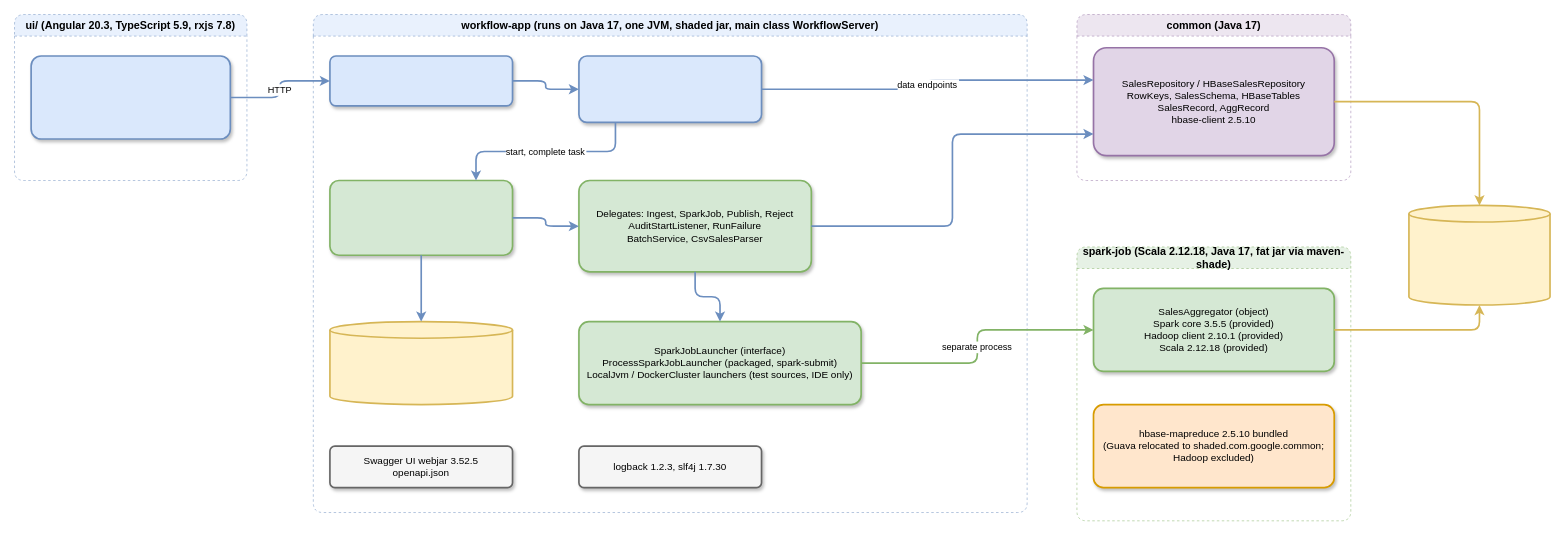
This 1565x535 diagram has some shape labels left out. The centre of each missing label's shape, as x and y in pixels:
Activiti 5.22.0 BPMN engine + job executor process salesBatch: pixel 421 218
HBase 2 sales_raw, sales_agg, batch_audit: pixel 1479 254
Jetty 9.4.44.v20210927 (embedded, jetty-servlet): pixel 421 81
Spring MVC 5.3.39 BatchController, DataController Jackson 2.9.10.8: pixel 670 90
Upload, status polling (2 s), approve/reject, HBase data tables: pixel 131 98
Workflow DB H2 1.4.197 (memory/file) or Postgres JDBC 42.7.4: pixel 421 362
